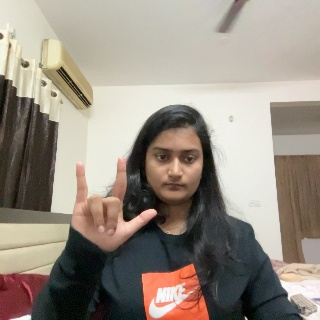I Love You: (69, 155, 158, 252)
